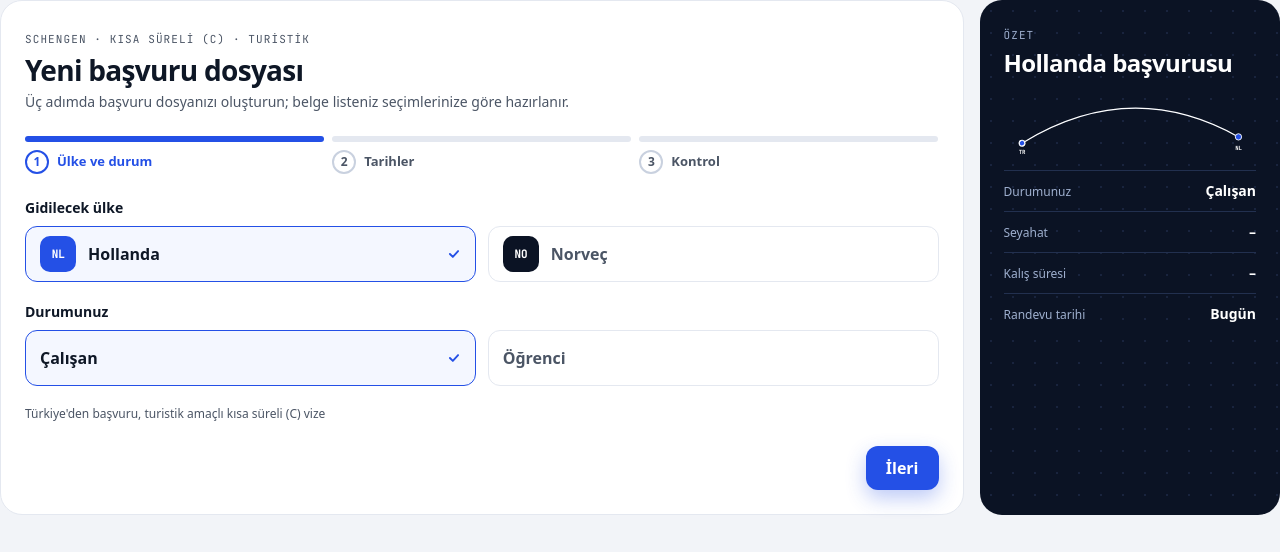
Test case: new application wizard › stops at the dates step when the return is before the departure
This screenshot has width=1280, height=552.
Click the button "İleri". click: (902, 468)
box: [866,446,938,490]
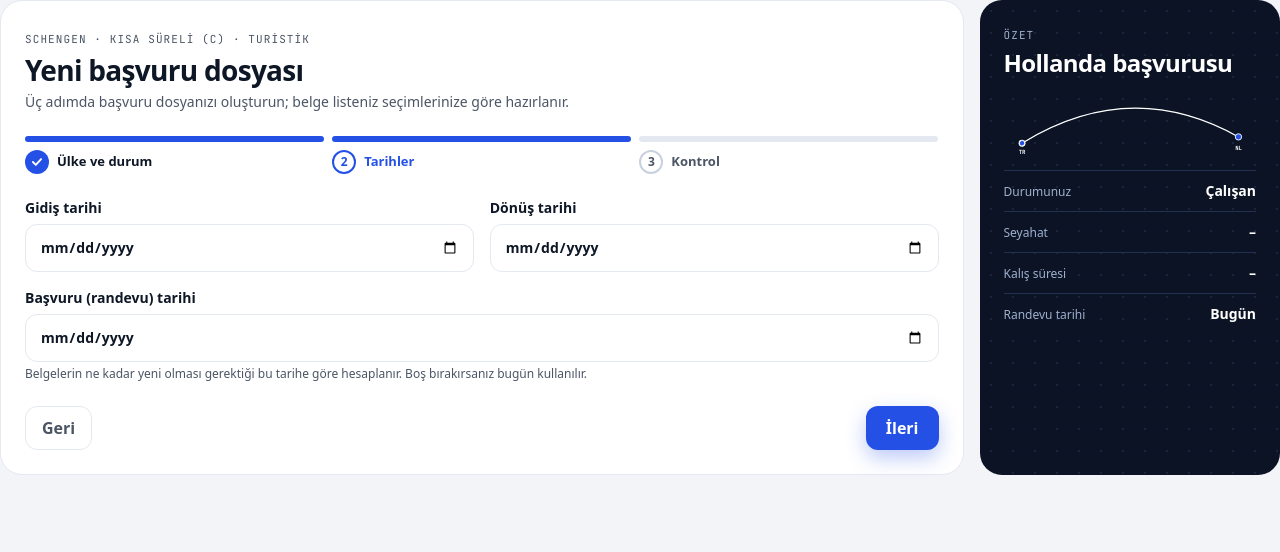
Type "2027-04-20" into the date field labelled "Gidiş tarihi". click: (249, 248)
box: [25,224,474,272]
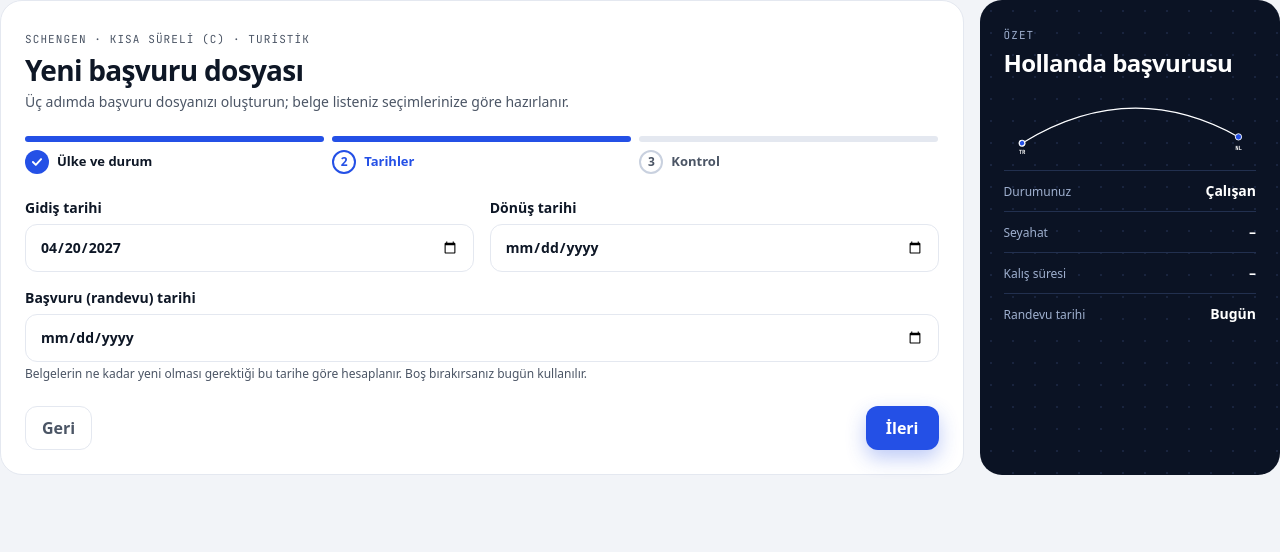
Type "2027-04-10" into the date field labelled "Dönüş tarihi". click: (714, 248)
box: [490,224,939,272]
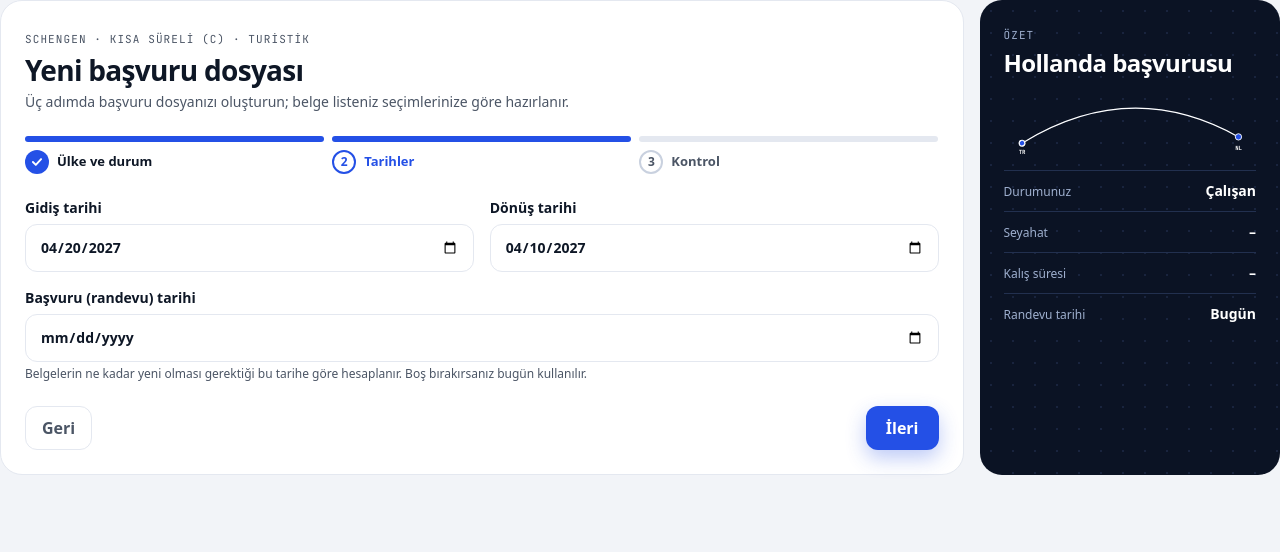
Submit the form
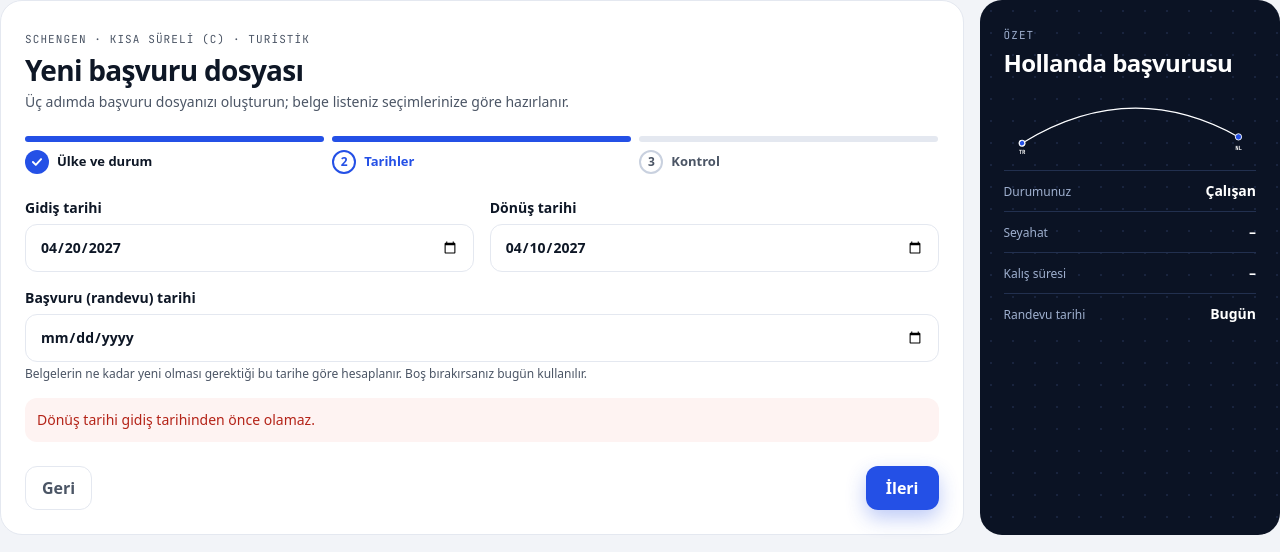
Expected: the message reads "Dönüş tarihi gidiş tarihinden önce olamaz.", [37,410,315,429]
